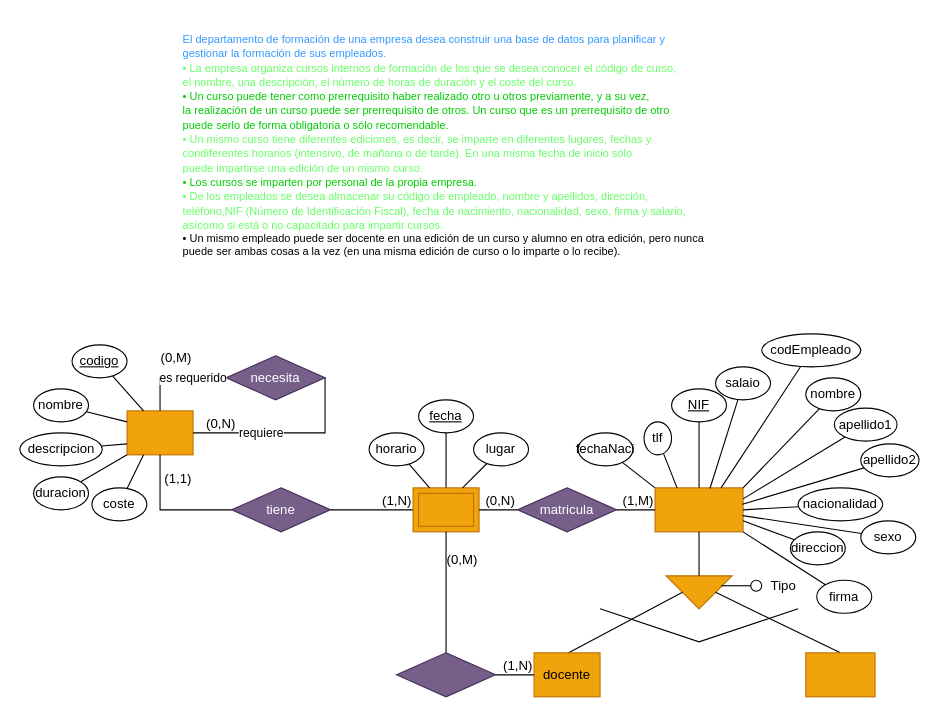
This 938x716 diagram has some shape labels left out. The shapes that lost their labels are listed below. From the top down, each one's box as (x1, y1, x2, y2) in pixels, then its label:
(126, 410, 193, 455): curso
(412, 487, 479, 532): edicion
(654, 487, 743, 532): empleado
(395, 652, 496, 697): imparte
(805, 652, 875, 697): alumno
